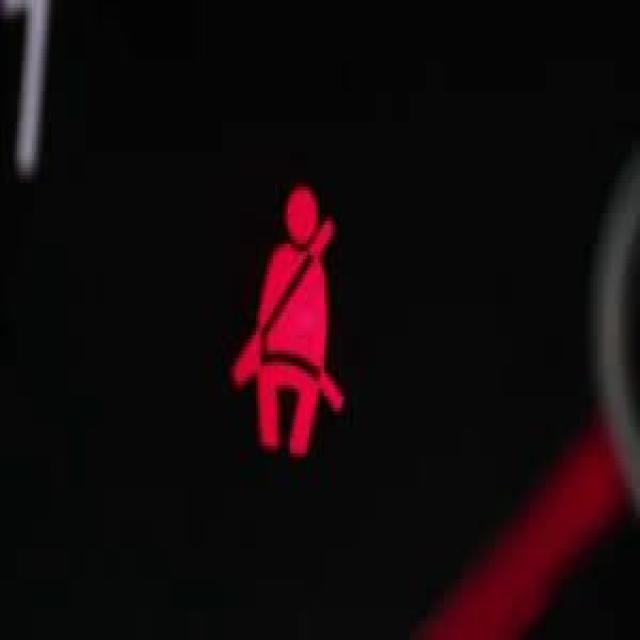Seat Belt: (234, 186, 344, 456)
